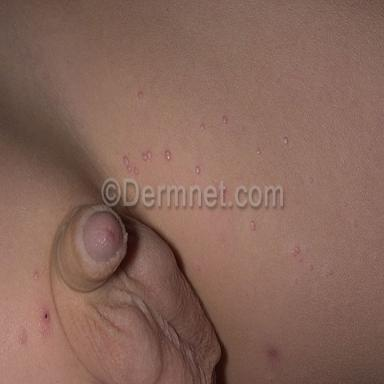Molluscum-Contagiosum: (292, 246, 301, 256), (123, 156, 129, 166), (165, 150, 171, 160), (283, 136, 289, 144), (142, 152, 147, 161), (138, 91, 143, 100), (251, 221, 256, 230), (147, 150, 151, 160), (196, 166, 201, 174), (222, 116, 227, 124), (134, 167, 139, 174), (34, 272, 38, 280), (200, 124, 205, 130), (257, 148, 261, 154), (353, 221, 357, 227), (128, 165, 131, 172), (299, 257, 302, 262), (310, 265, 313, 270), (295, 279, 298, 284), (309, 178, 312, 183), (343, 203, 347, 206), (329, 270, 331, 275), (317, 286, 319, 290)
